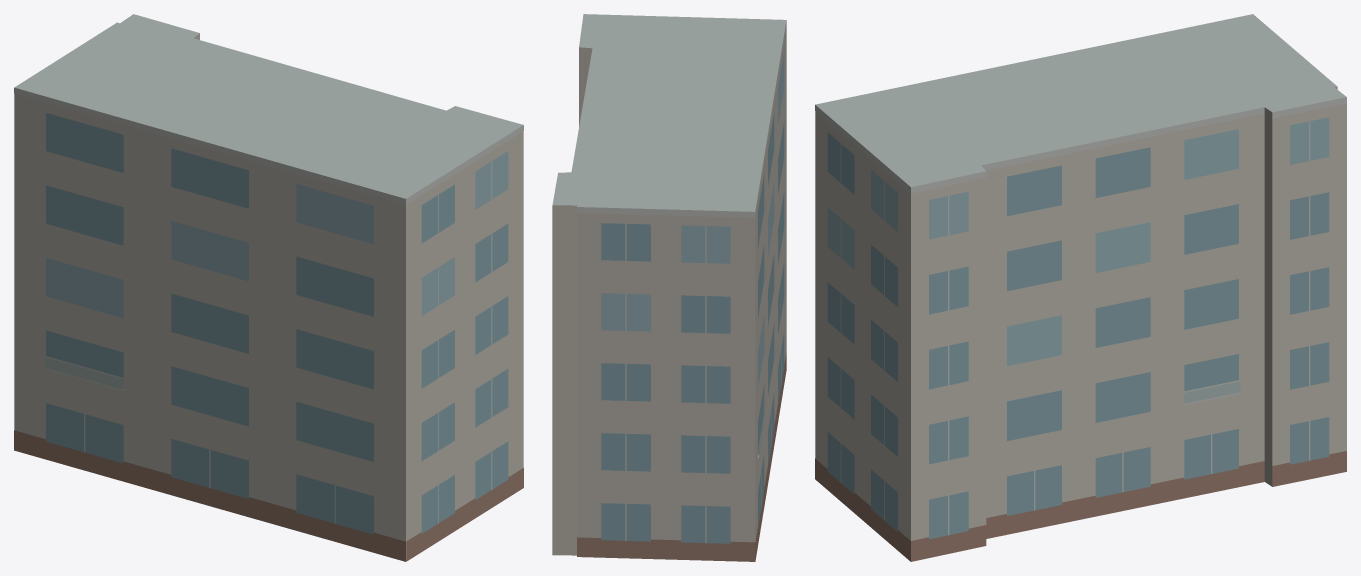
The model's file is survey-upis-32697516.glb.
3 renders of one model, left to right at view 1: azimuth 30°, elevation 25°; view 2: azimuth 150°, elevation 25°; view 3: azimuth 270°, elevation 25°, orthographic. The views are drawn at different scales.
Parts seen in each view (by area): view 1: survey-upis-32697516.tmp; view 2: survey-upis-32697516.tmp; view 3: survey-upis-32697516.tmp.
Part boxes in pixels (left/top/right/bottom): survey-upis-32697516.tmp: left=14, top=14, right=523, bottom=561; survey-upis-32697516.tmp: left=552, top=14, right=786, bottom=561; survey-upis-32697516.tmp: left=815, top=14, right=1346, bottom=561.
Size of the model in its own units: 14.39 by 14.5 by 18.66.
